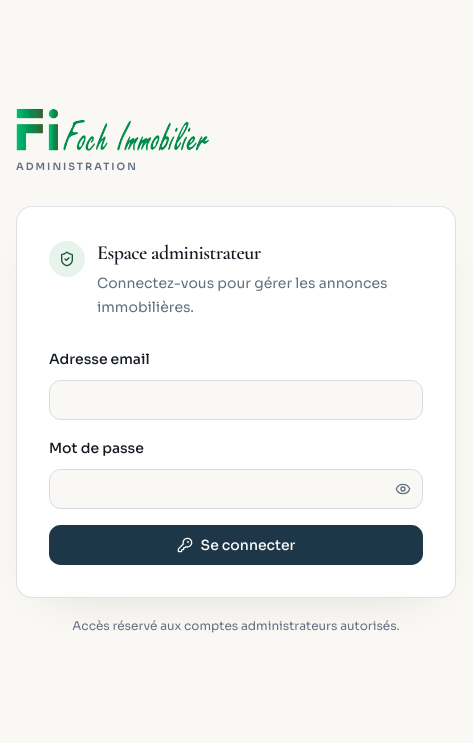
it: admin login validation › summarizes submit errors, focuses the summary, and clears field errors as values are corrected
Expected: the heading "Espace administrateur" is shown, top-left (97, 241), bottom-right (261, 265)
Submit the form "Se connecter", box top-left (49, 347), bottom-right (423, 565)
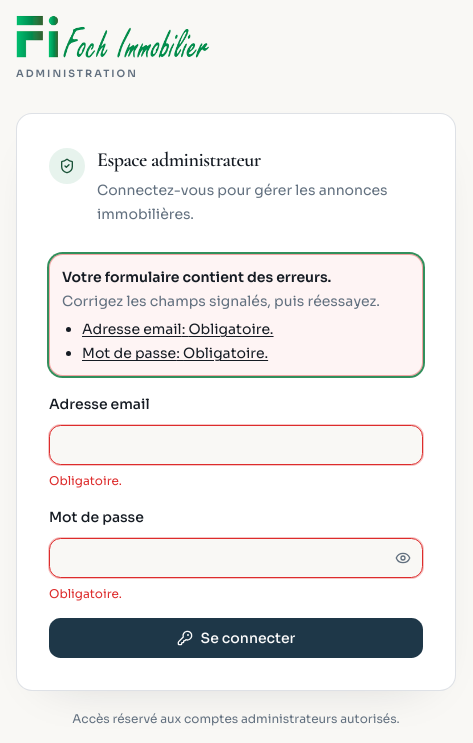
Expected: the message shows "Adresse email", top-left (82, 320), bottom-right (274, 338)
Expected: the message shows "Mot de passe", top-left (82, 344), bottom-right (268, 362)
Expected: the message shows "Corrigez les champs signalés, puis réessayez.", top-left (62, 292), bottom-right (380, 310)
Type "admin@example.fr" into the field labelled "Adresse email". click: coordinates (236, 445)
box: top-left (49, 425), bottom-right (423, 465)
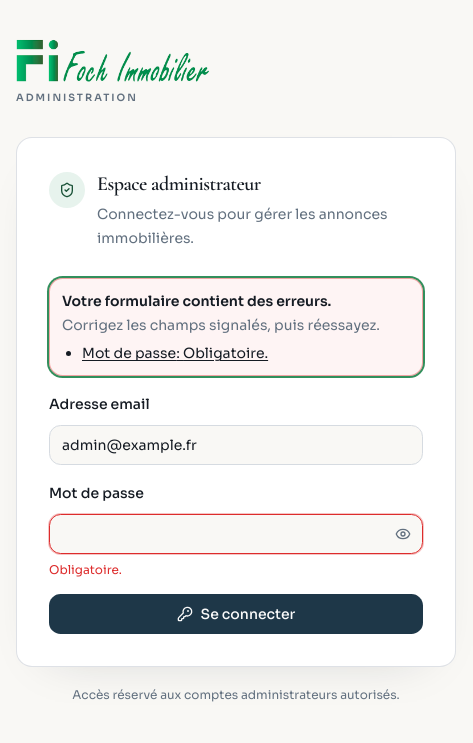
Type "password" into the password field labelled "Mot de passe". click: coordinates (236, 534)
box: top-left (49, 514), bottom-right (423, 554)
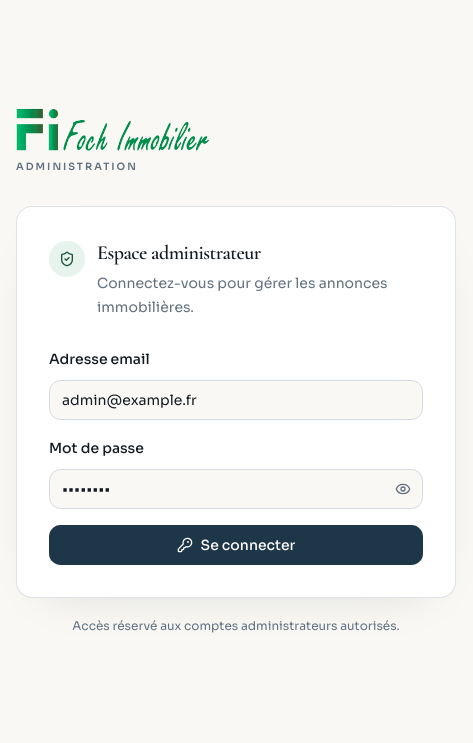
Expected: the message is gone
